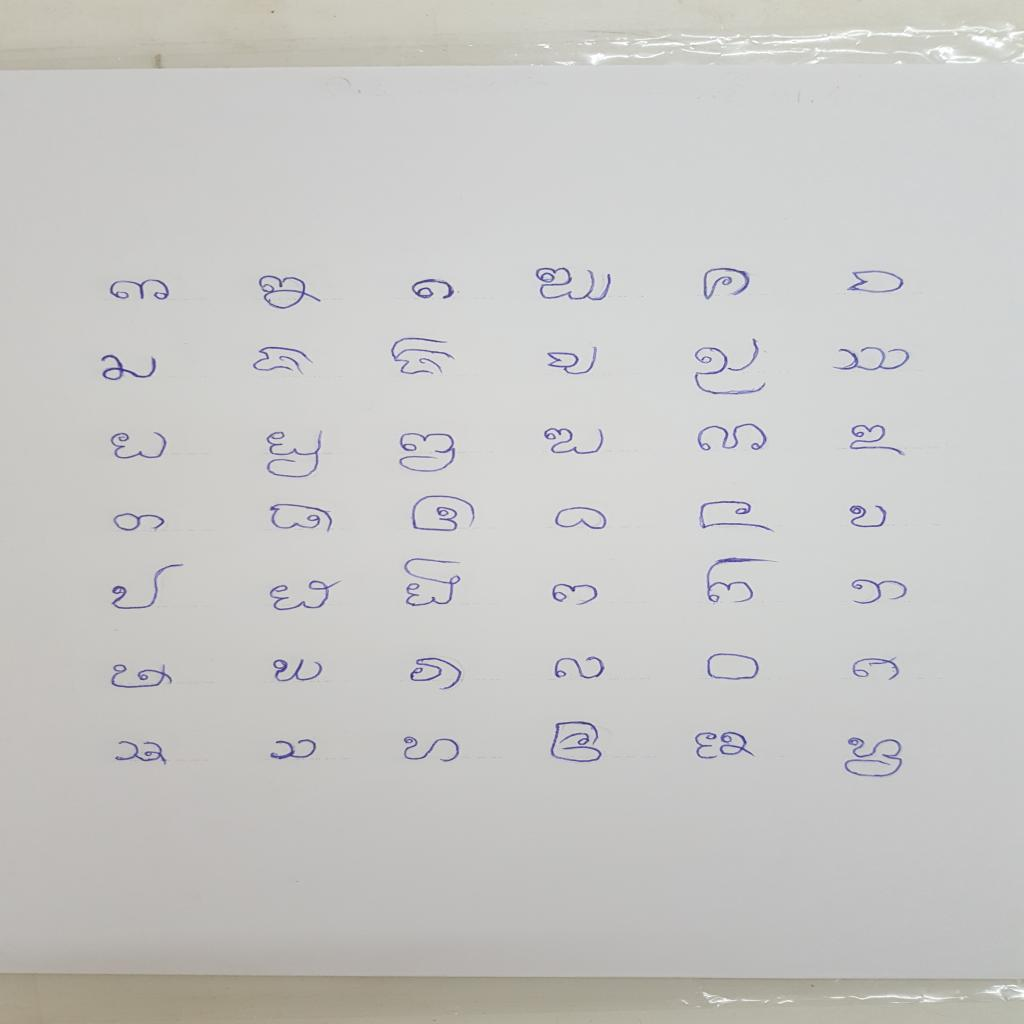LN001: (102, 277, 177, 306)
LN002: (252, 273, 329, 314)
LN003: (407, 276, 460, 304)
LN004: (529, 266, 621, 306)
LN005: (696, 264, 759, 306)
LN006: (842, 267, 911, 298)
LN007: (94, 351, 166, 385)
LN008: (248, 344, 322, 381)
LN012: (826, 343, 918, 377)
LN013: (103, 428, 174, 463)
LN014: (260, 428, 333, 484)
LN015: (391, 430, 464, 477)
LN016: (537, 425, 612, 459)
LN017: (688, 421, 775, 456)
LN018: (845, 423, 916, 461)
LN019: (107, 510, 172, 536)
LN020: (262, 501, 342, 539)
LN021: (406, 493, 483, 537)
LN022: (549, 504, 615, 535)
LN023: (694, 498, 781, 538)
LN024: (841, 502, 894, 532)
LN025: (106, 561, 192, 614)
LN026: (264, 577, 349, 616)
LN027: (398, 556, 469, 612)
LN028: (547, 581, 606, 610)
LN031: (105, 662, 180, 693)
LN032: (265, 656, 330, 686)
LN033: (403, 654, 470, 695)
LN034: (548, 653, 611, 683)
LN035: (701, 651, 766, 684)
LN036: (846, 655, 905, 685)
LN037: (109, 738, 173, 771)
LN038: (265, 737, 324, 763)
LN039: (395, 733, 467, 767)
LN040: (544, 718, 610, 767)
LN041: (688, 729, 762, 764)
LN042: (840, 734, 910, 783)
